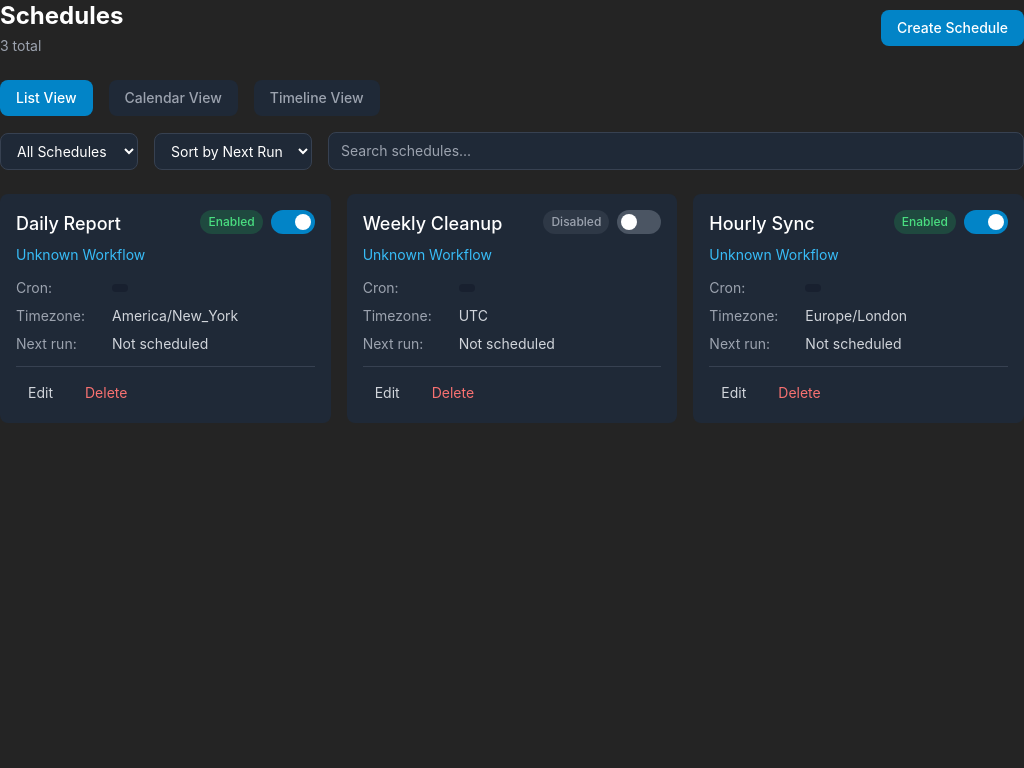
Test: Schedules Page Integration Tests › Delete Schedule › should cancel delete operation
Expected: the text "Daily Report" is shown, [16,213,121,234]
Click the button "Delete" below "America/New_York" at point(106, 393), box [73,379,139,407]
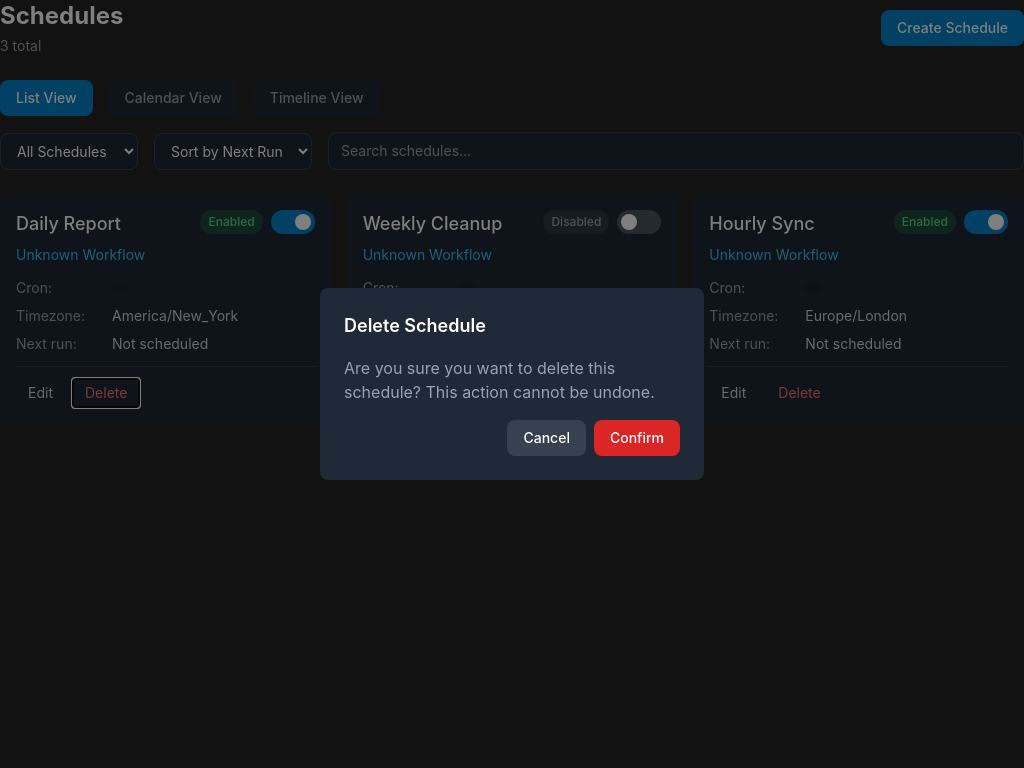
Expected: the heading "Delete Schedule" is shown, [344,315,486,336]
# Click cancel
Click the button "Cancel" at point(547, 438), box [508,420,586,456]
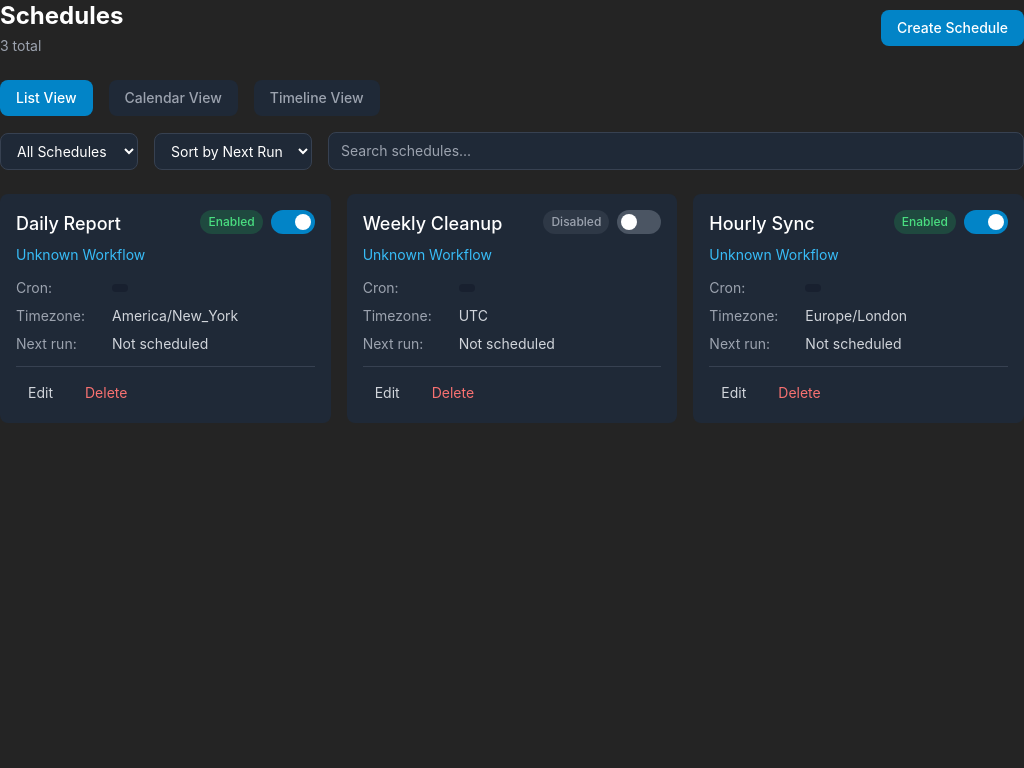
Expected: the heading "Daily Report" is shown, [16,213,121,234]
Expected: the heading "Delete Schedule" is gone
